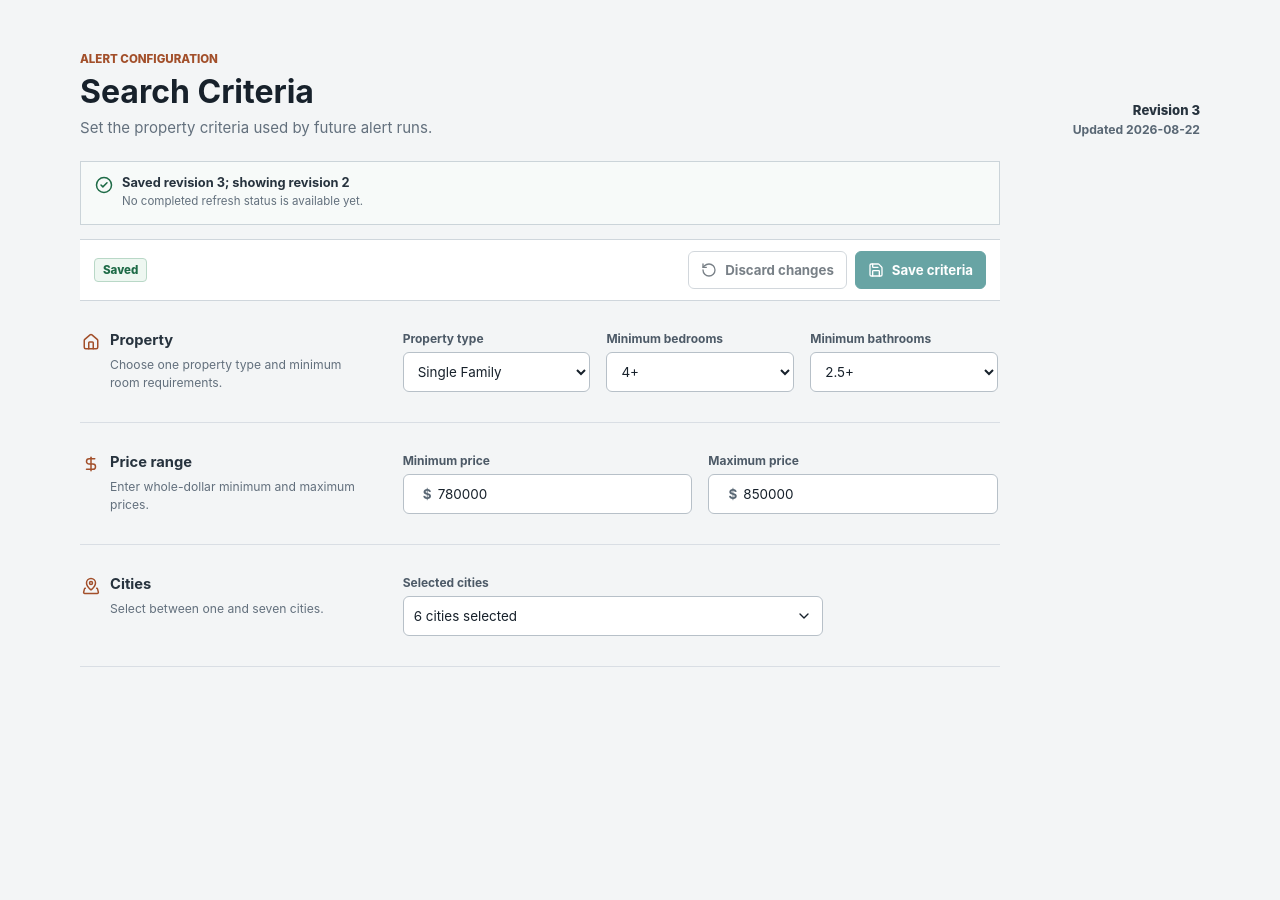
SearchCriteriaScreen › loads an explicitly saved six-market profile without creating a dirty draft
Expected: the text "Revision 3" is shown, x1=1133 y1=102 x2=1200 y2=118
Expected: the button "Save criteria" is disabled, x1=855 y1=251 x2=986 y2=289
Click the button "6 cities selected" at (465, 616), box x1=403 y1=596 x2=823 y2=636
(page scrolled)
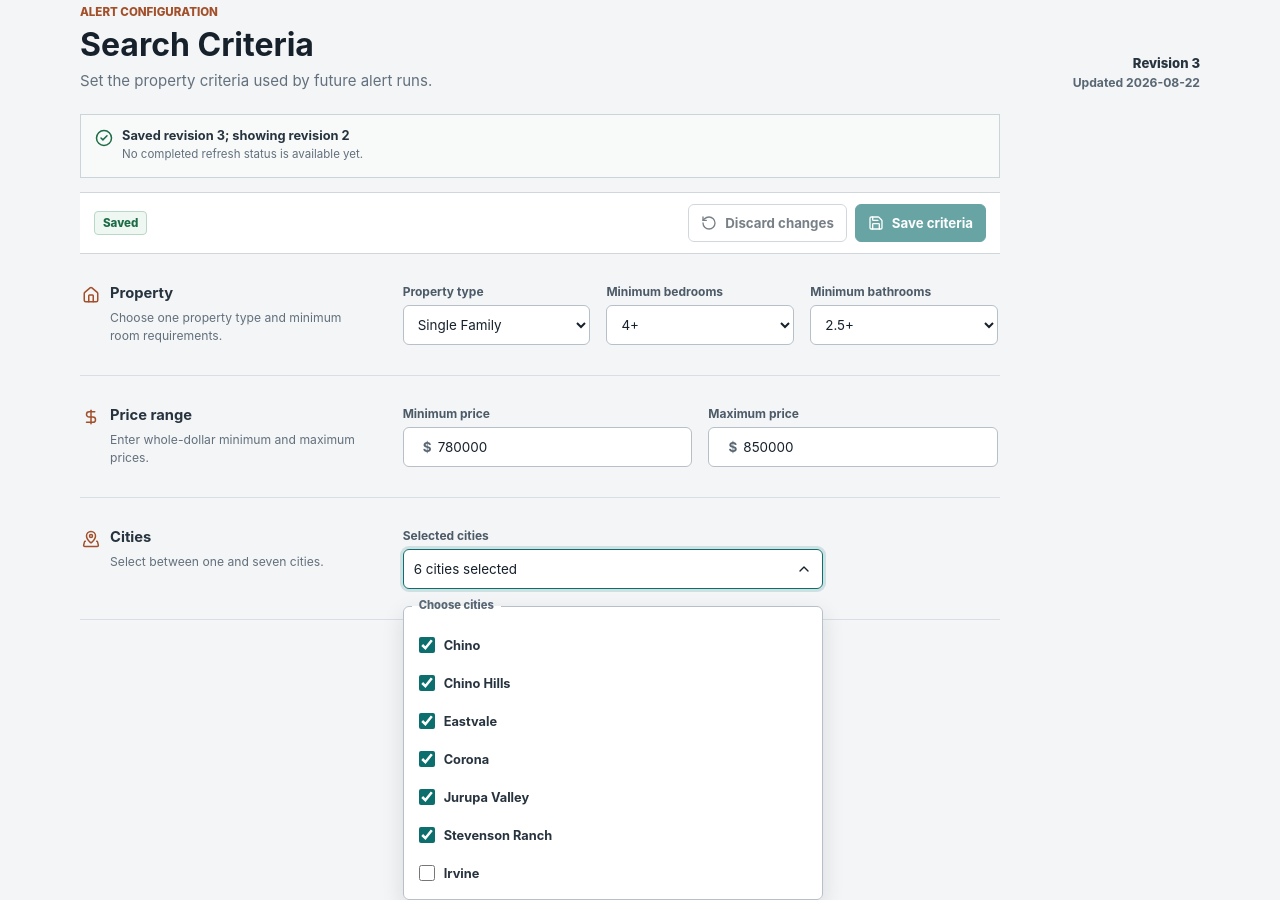
Expected: the checkbox labelled "Stevenson Ranch" is checked, x1=419 y1=828 x2=435 y2=844
Expected: the checkbox labelled "Irvine" is not checked, x1=419 y1=866 x2=435 y2=882
